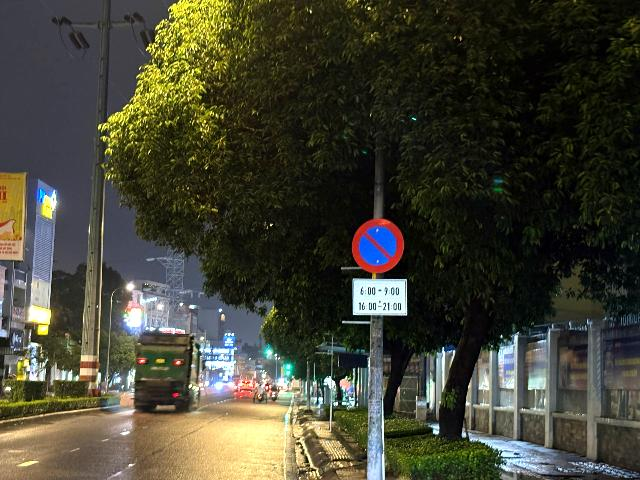cam-do-xe: (351, 217, 404, 274)
